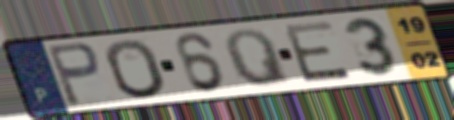3: (342, 15, 400, 79)
6: (172, 30, 226, 94)
E: (280, 18, 355, 85)
O: (102, 37, 170, 101)
P: (43, 40, 103, 109)
Q: (222, 27, 295, 89)
